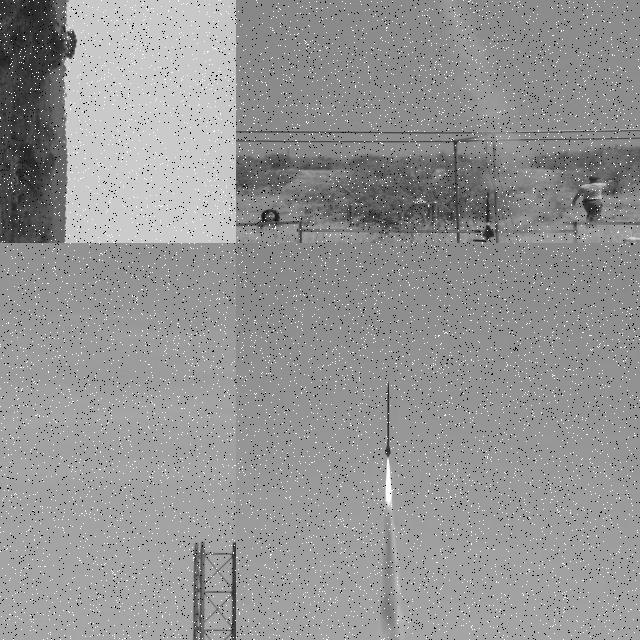Rocket: (482, 191, 496, 241), (384, 379, 392, 458), (606, 175, 620, 182)
